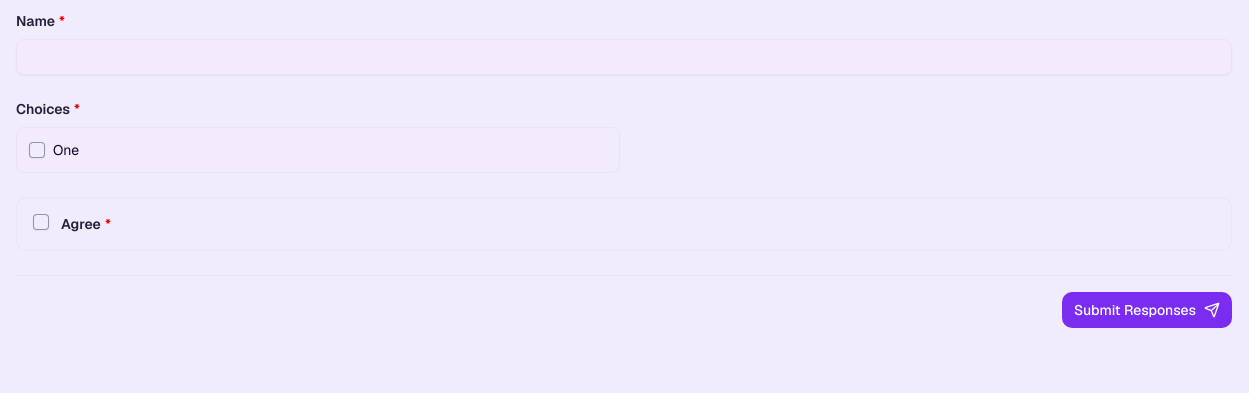
Scenario: DynamicSurveyForm › validates required strings, arrays, empty selectboxes, and checkbox booleans
Step 1. Click the button "Submit Responses" → [1147, 310], box [1062,292,1232,328]
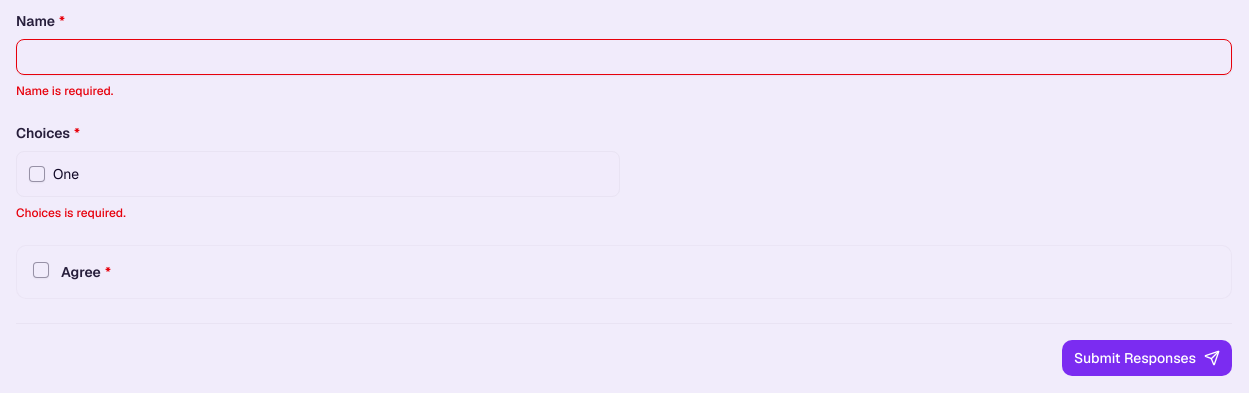
Check: the text "Name is required." is shown, box [16,83,113,99]
Check: the text "Choices is required." is shown, box [16,205,126,221]
